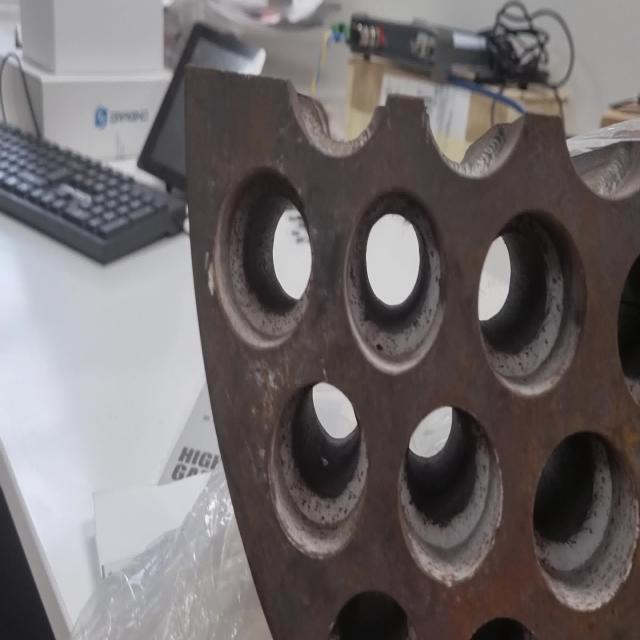Hole: (476, 207, 588, 396), (341, 182, 446, 374), (531, 428, 639, 614), (399, 399, 504, 586), (210, 164, 316, 349), (266, 380, 369, 558), (325, 586, 421, 640), (616, 234, 640, 412), (455, 614, 547, 640)
